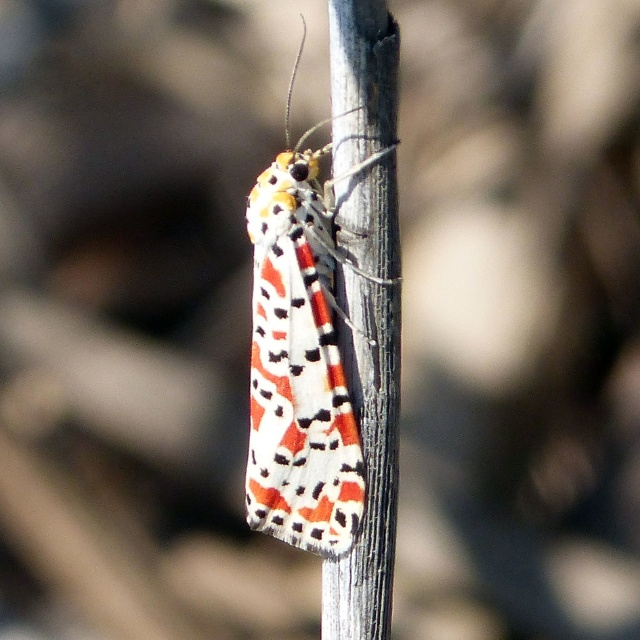Moths and butterflies: (242, 12, 406, 563)
